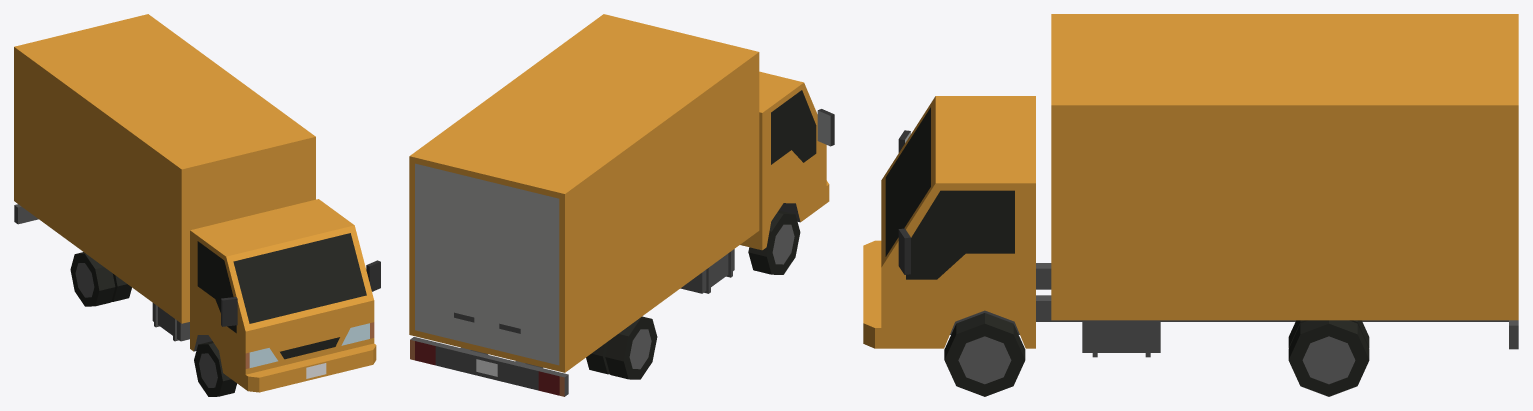
Rendered from Veh_Truck_02_Yellow.obj.
3 renders of one model, left to right at view 1: azimuth 30°, elevation 25°; view 2: azimuth 150°, elevation 25°; view 3: azimuth 270°, elevation 25°, orthographic. The views are drawn at different scales.
Size of the model in its own units: 1.27 by 1.61 by 3.26.
